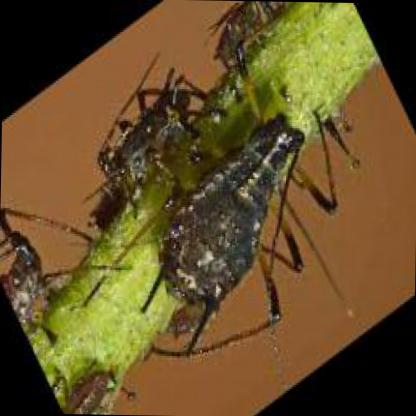uroleucon compositae: (143, 109, 310, 351)
